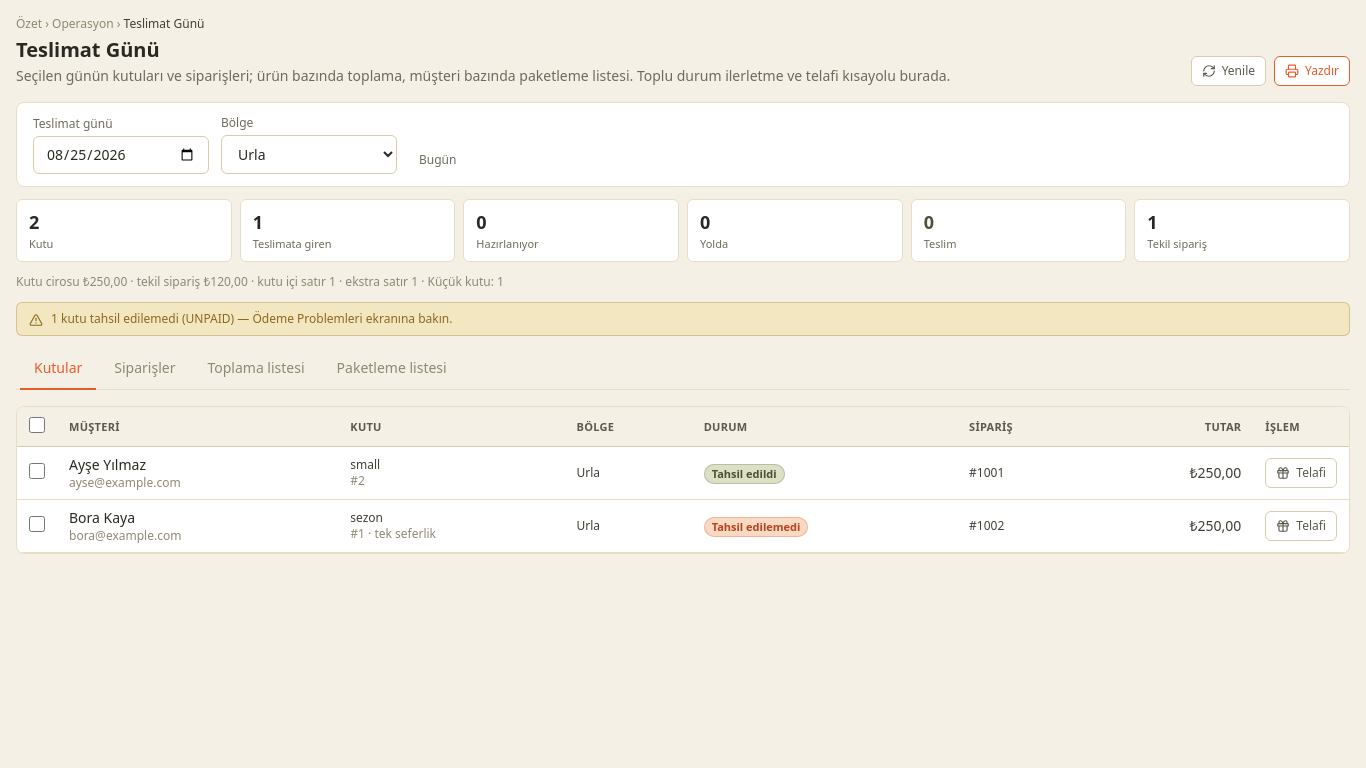
Test: AdminTeslimatGunuPage (ekran 20) › toplama listesi sekmesi ürün bazında toplamı ve tercih dağılımını gösterir
The image size is (1366, 768).
Expected: the link "Ayşe Yılmaz" is shown, [69,455,146,474]
What coordinates should you click on to do the following:
click the tab "Toplama listesi"
I would click on:
 (256, 368)
Its box is [193,348,318,390].
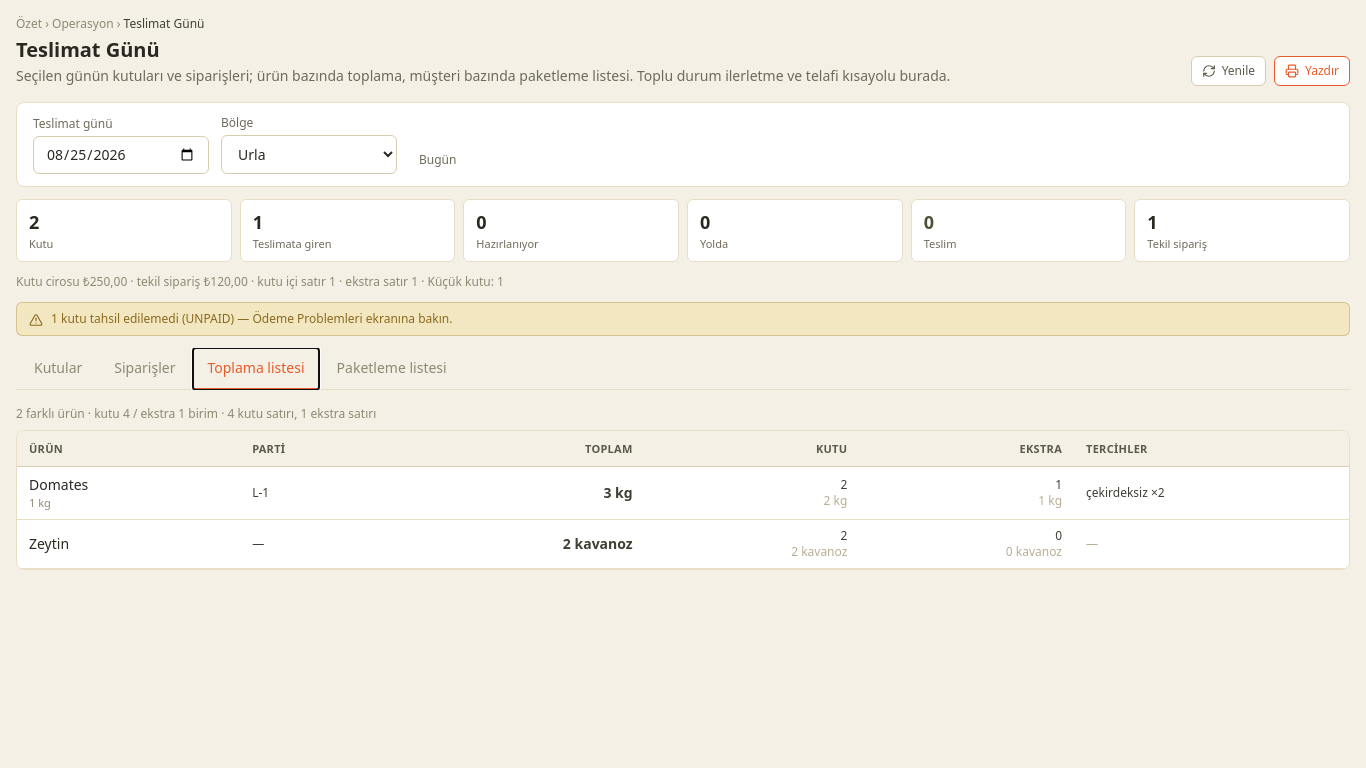
Expected: the text "Domates" is shown, [29,475,88,494]
Expected: the text "3 kg" is shown, [393,467,645,519]
Expected: the text "2 kavanoz" is shown, [393,519,645,568]
